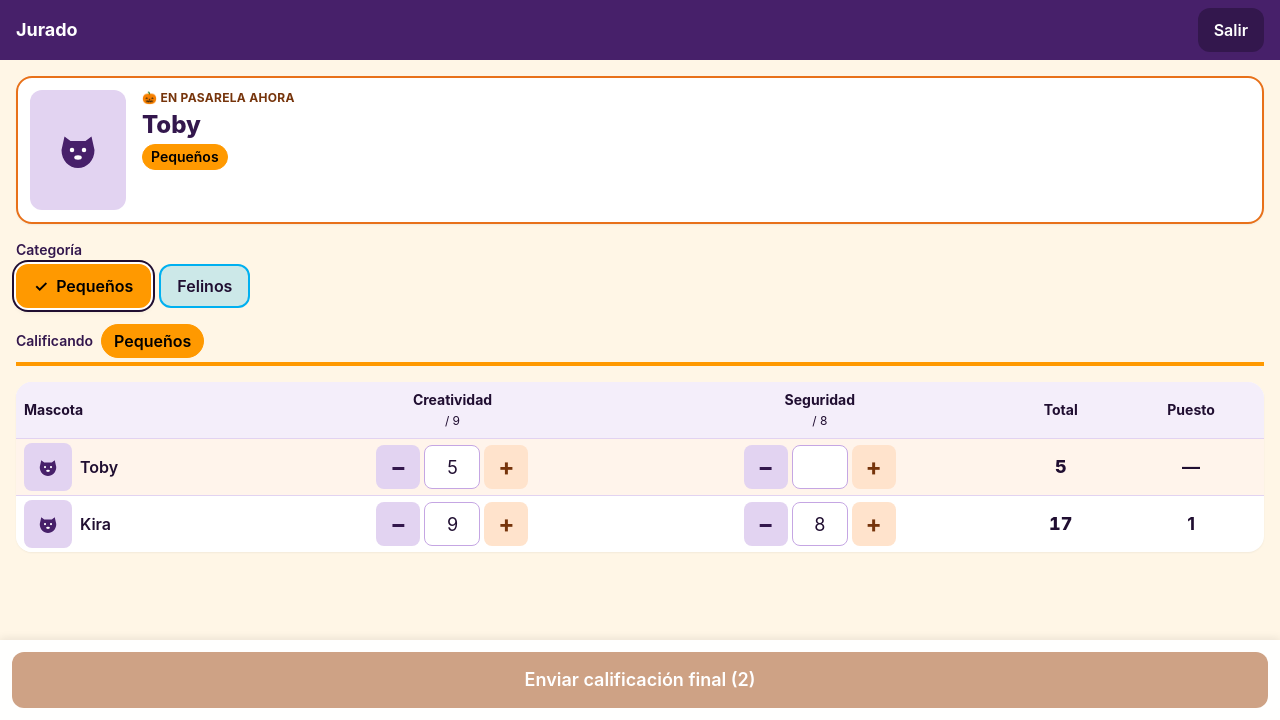
Scenario: escribir recalcula total/puesto y anota el borrador de toda la fila (CA5)
In the field with test id "celda-t-2": (820, 467) [792, 445, 848, 489], type "3"
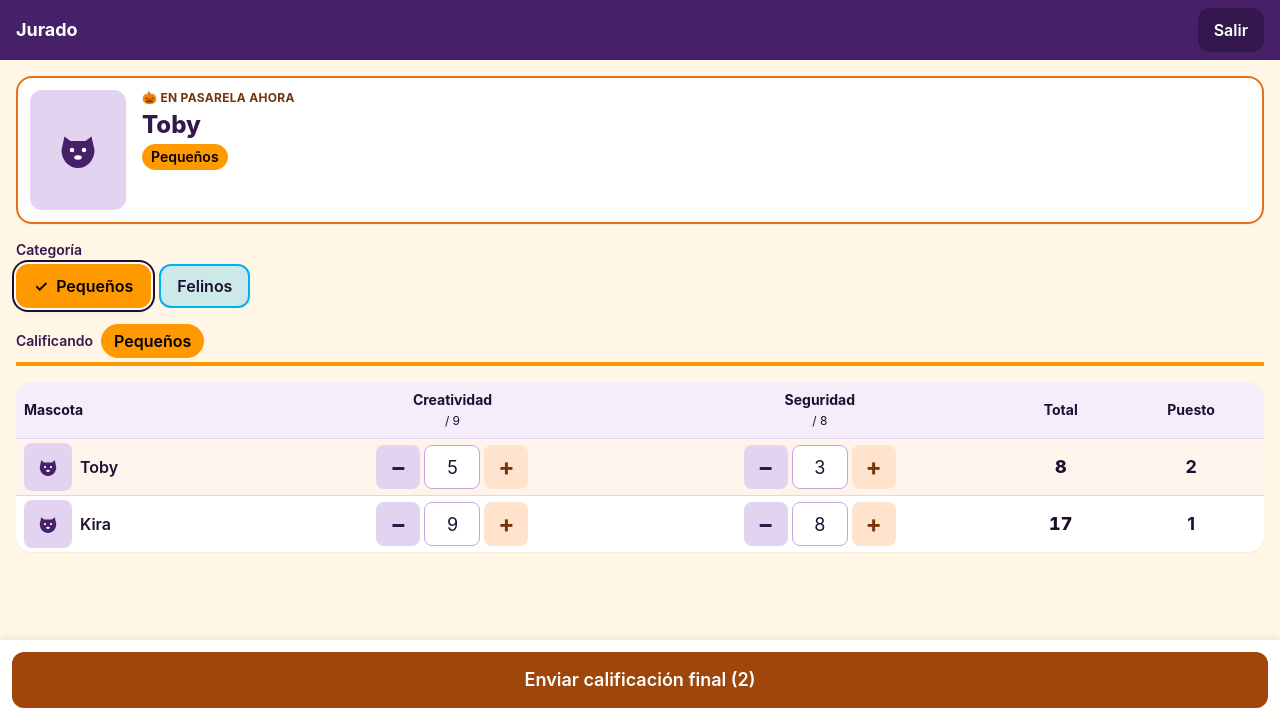
Expected: the cell with test id "total-t" reads "8", [1055, 456, 1066, 477]
Expected: the cell with test id "puesto-t" reads "2", [1185, 456, 1197, 477]
